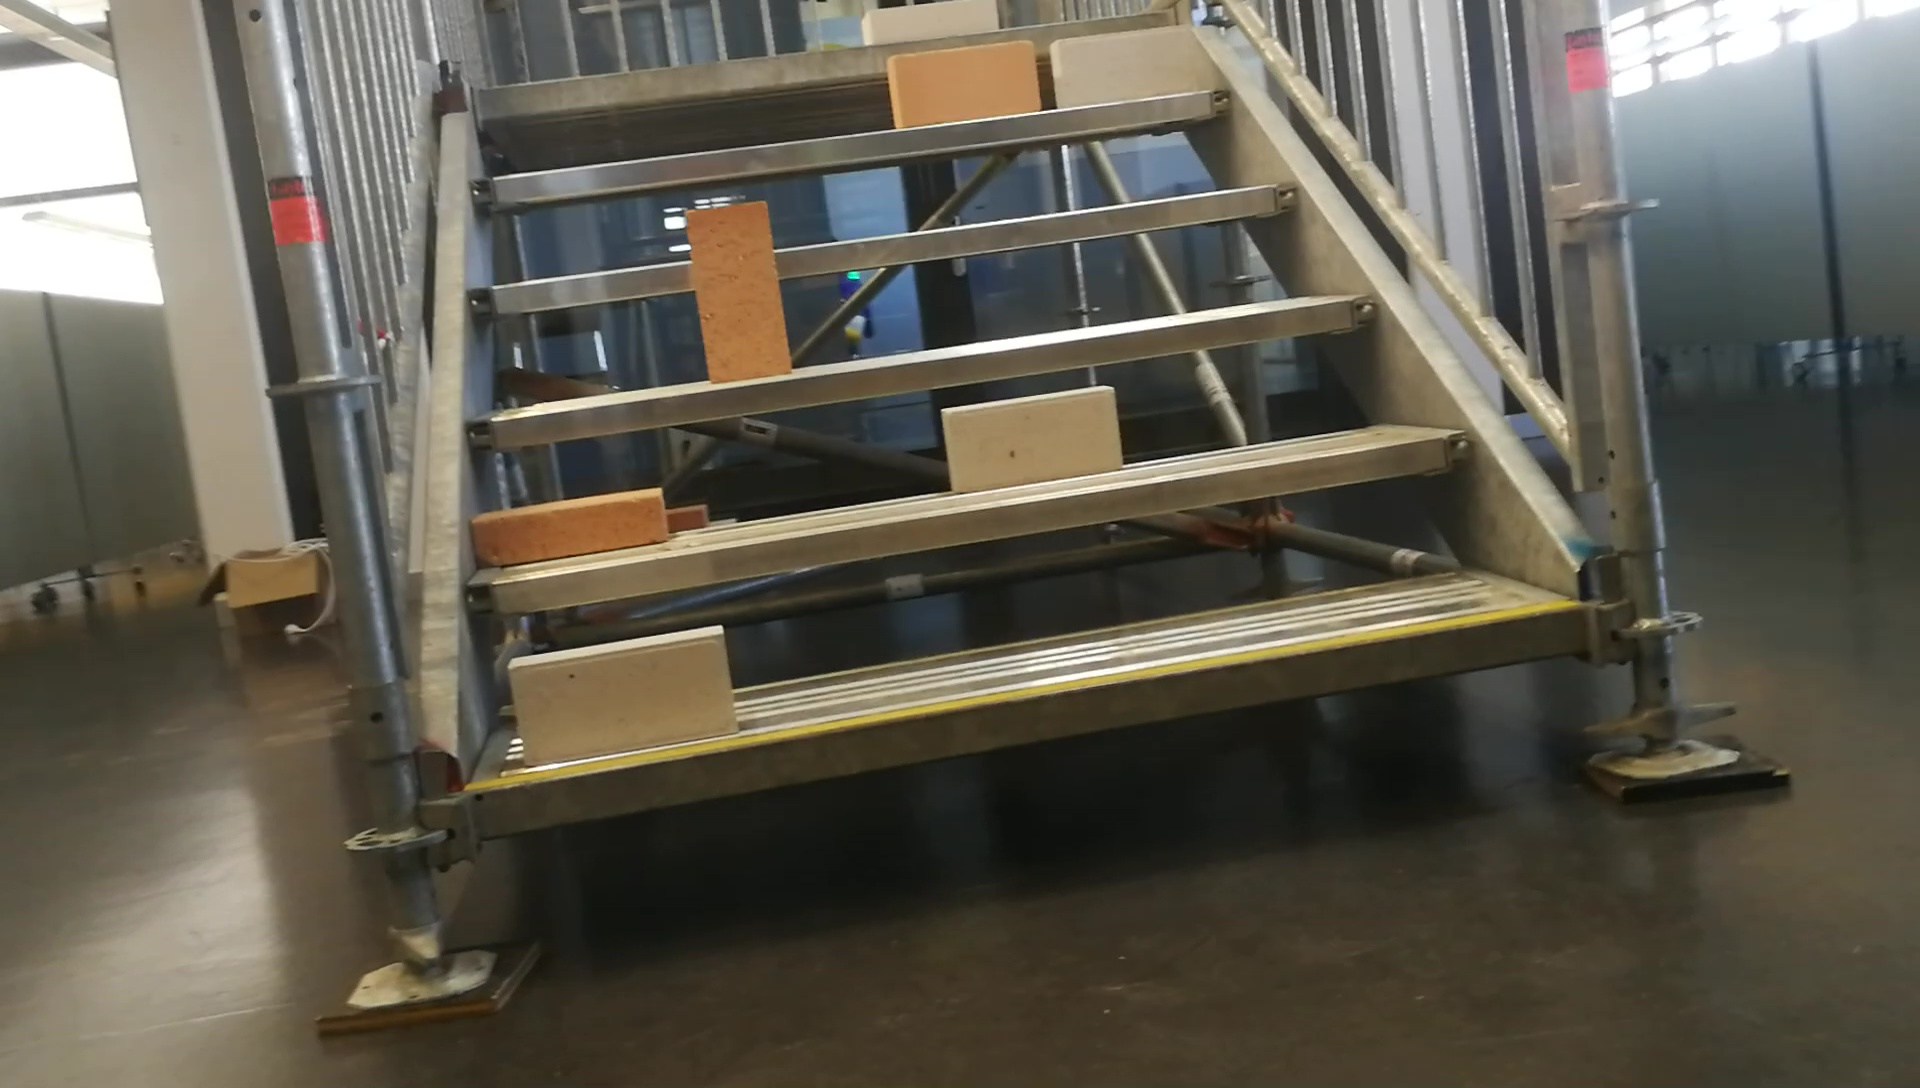brick: (508, 619, 737, 764), (684, 200, 793, 380), (945, 386, 1122, 495), (471, 489, 665, 560), (891, 40, 1039, 129), (1052, 26, 1197, 106), (860, 3, 997, 41)
edge: (477, 605, 1586, 835), (468, 429, 1470, 603), (473, 295, 1378, 444), (477, 182, 1302, 313), (483, 87, 1228, 203)
stairs: (316, 11, 1788, 1043)
steps: (463, 8, 1600, 851)
